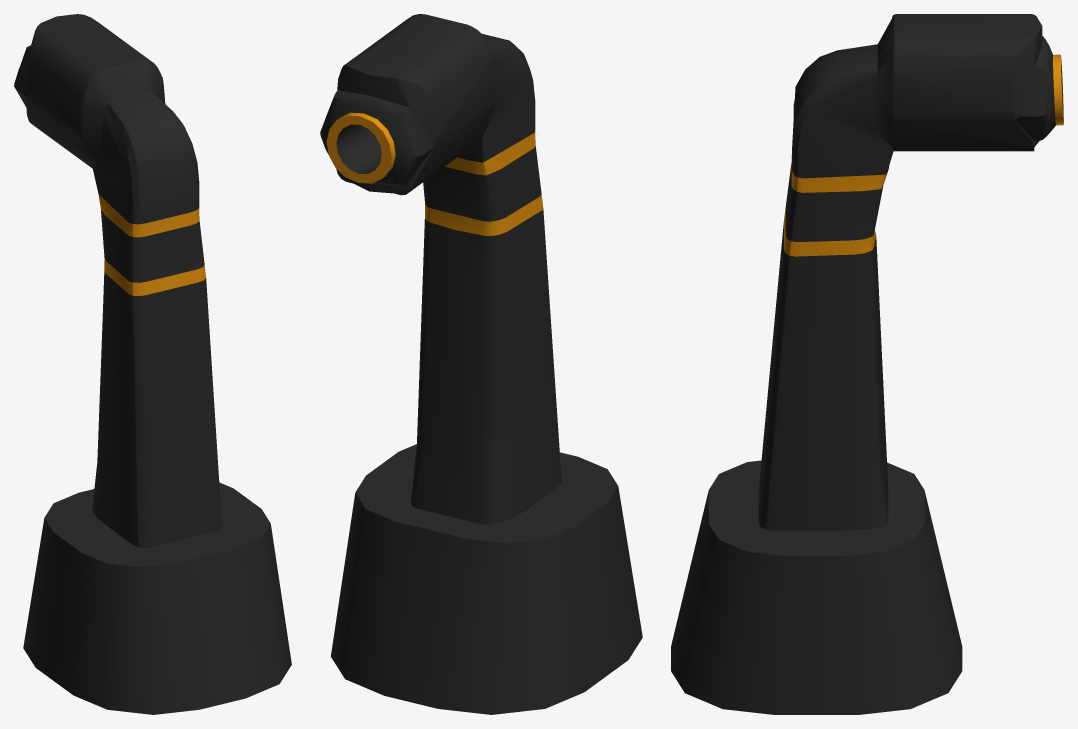
File: ballLaunchingRobot.fbx
3 views of the same model, side by side, from view 1: azimuth 30°, elevation 25°; view 2: azimuth 150°, elevation 25°; view 3: azimuth 270°, elevation 25° (orthographic). The views are drawn at different scales.
Parts seen in each view (by area): view 1: Top shooter, Base; view 2: Top shooter, Base; view 3: Top shooter, Base.
Boxes of the visible parts, x1=… form: Top shooter: x1=14, y1=14, x2=221, y2=547; Base: x1=23, y1=482, x2=291, y2=714; Top shooter: x1=320, y1=14, x2=561, y2=524; Base: x1=331, y1=444, x2=642, y2=714; Top shooter: x1=758, y1=14, x2=1063, y2=530; Base: x1=671, y1=460, x2=962, y2=714.
Bounding box in the file's own units: 44.65 × 117 × 65.94.
